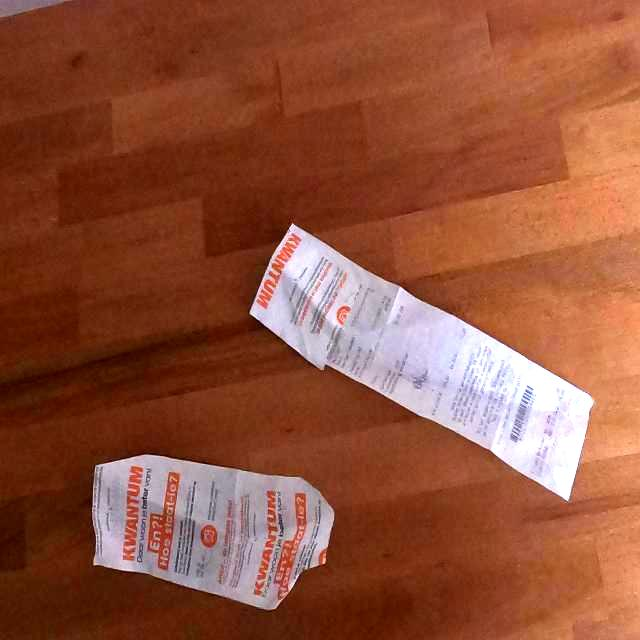Paper: (244, 219, 596, 509), (88, 449, 336, 613)
